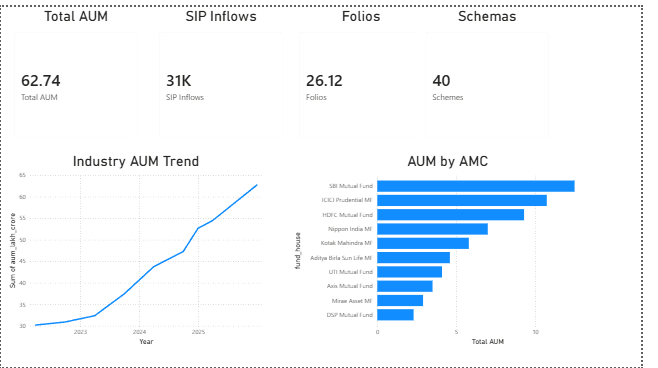

This screenshot's page, from the dashboard's own definition file:
{"tool":"powerbi","page":{"name":"Industry Overview","canvas":[1280,720],"ordinal":0},"visuals":[{"type":"cardVisual","title":"Total AUM","fields":{"Data":["03_aum_by_fund_house_cleaned.Total AUM"]},"box":[10,0,280,280],"z":0},{"type":"cardVisual","title":"SIP Inflows","fields":{"Data":["04_monthly_sip_inflows_cleaned.SIP Inflows"]},"box":[300,0,280,280],"z":1000},{"type":"cardVisual","title":"Folios","fields":{"Data":["06_industry_folio_count_cleaned.Folios"]},"box":[580,0,280,280],"z":2000},{"type":"cardVisual","title":"Schemas","fields":{"Data":["01_fund_master_cleaned.Schemes"]},"box":[833.3,0,280,280],"z":3000},{"type":"lineChart","title":" Industry AUM Trend","fields":{"Y":["Sum(03_aum_by_fund_house_cleaned.aum_lakh_crore)"],"Category":["03_aum_by_fund_house_cleaned.date.Variation.Date Hierarchy.Year","03_aum_by_fund_house_cleaned.date.Variation.Date Hierarchy.Quarter","03_aum_by_fund_house_cleaned.date.Variation.Date Hierarchy.Month","03_aum_by_fund_house_cleaned.date.Variation.Date Hierarchy.Day"]},"box":[10,290,520,391.7],"z":4000},{"type":"clusteredBarChart","title":"AUM by AMC","fields":{"Category":["03_aum_by_fund_house_cleaned.fund_house"],"Y":["03_aum_by_fund_house_cleaned.Total AUM"]},"box":[580,290,626.7,391.7],"z":5000}]}

Visuals, with their boxes in screenshot pixels (x1, y1, x2, y2), scaled from the page's 1280x720 canvas onto the 658x368 screenshot:
"Total AUM" cardVisual: [5,0,149,143]
"SIP Inflows" cardVisual: [154,0,298,143]
"Folios" cardVisual: [298,0,442,143]
"Schemas" cardVisual: [428,0,572,143]
" Industry AUM Trend" lineChart: [5,148,272,348]
"AUM by AMC" clusteredBarChart: [298,148,620,348]
